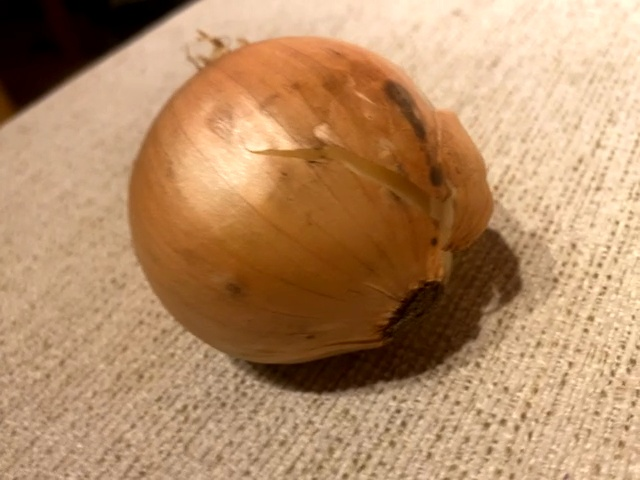onion: (123, 30, 495, 372)
